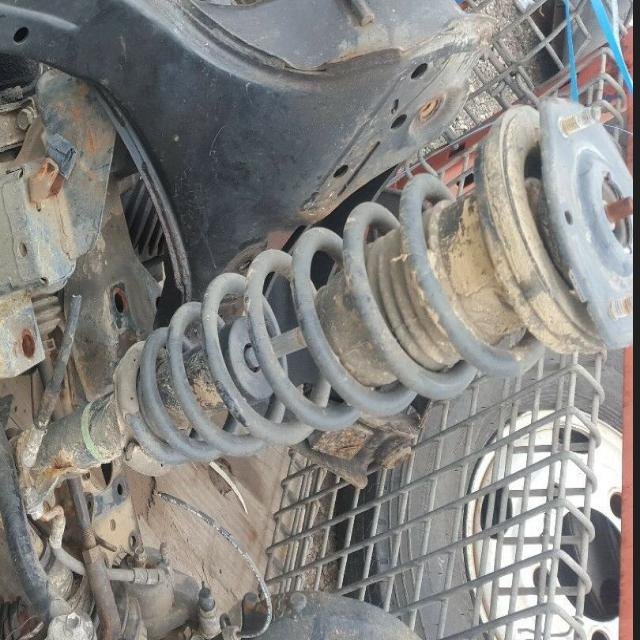shock absorber: (9, 97, 633, 521)
